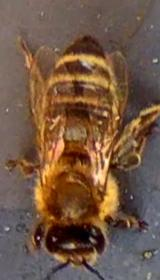varroa_mite: (81, 132, 104, 154)
